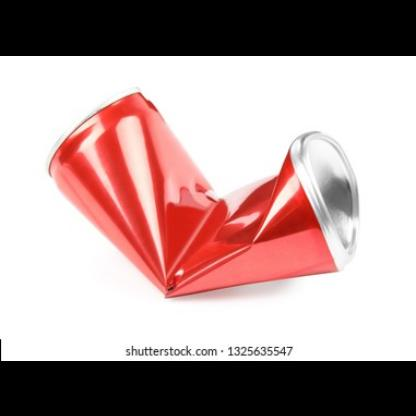Dent_Can: (106, 188, 282, 299)
Tin_Can: (31, 76, 367, 310)
